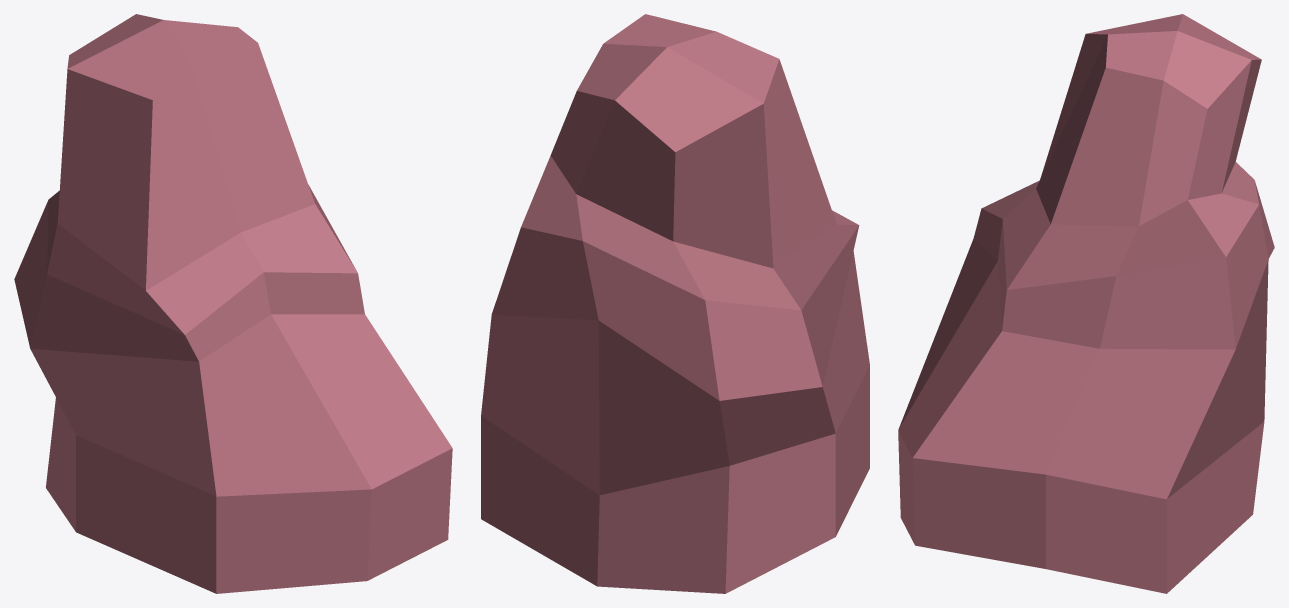
The model's file is Rock_19Color.fbx.
3 renders of one model, left to right at view 1: azimuth 30°, elevation 25°; view 2: azimuth 150°, elevation 25°; view 3: azimuth 270°, elevation 25°, orthographic. The views are drawn at different scales.
Parts seen in each view (by area): view 1: Rock_19; view 2: Rock_19; view 3: Rock_19.
Boxes of the visible parts, x1,y1,x2,y2 form: Rock_19: (14, 14, 452, 593); Rock_19: (481, 14, 869, 593); Rock_19: (898, 14, 1274, 593).
Size of the model in its own units: 426 by 626 by 447.
